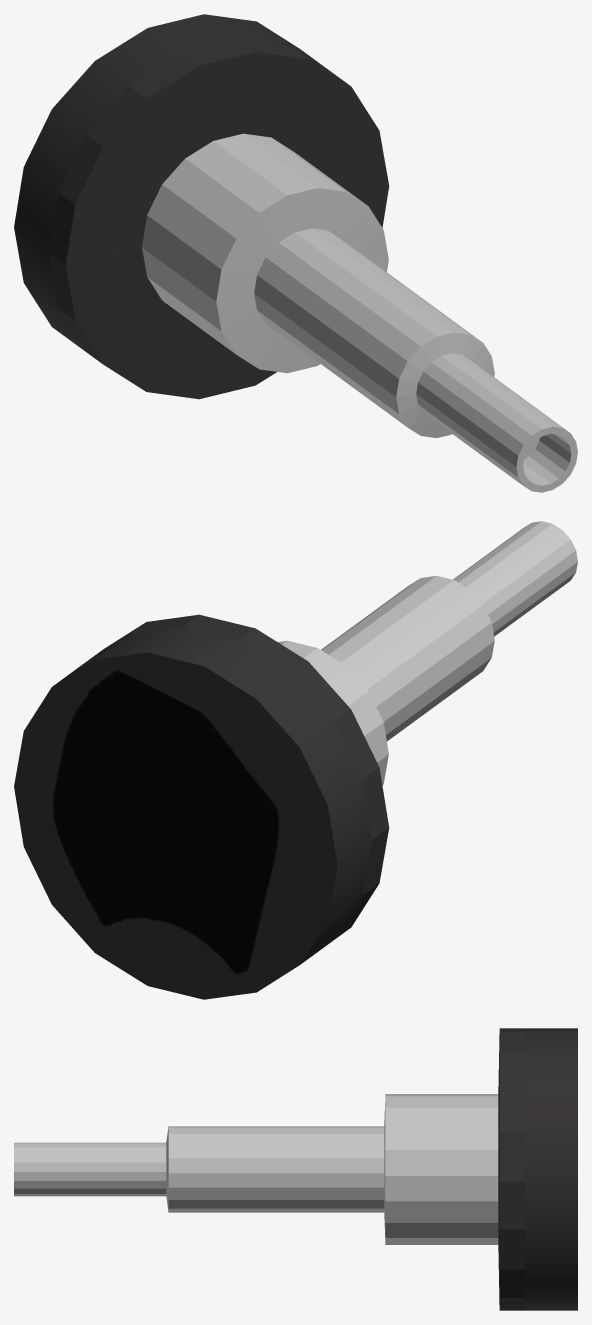
The model's file is RayEnter.fbx.
3 views of the same model, one above another, from view 1: azimuth 30°, elevation 25°; view 2: azimuth 150°, elevation 25°; view 3: azimuth 270°, elevation 25° (orthographic). The views are drawn at different scales.
Parts seen in each view (by area): view 1: Cylinder001; view 2: Cylinder001; view 3: Cylinder001.
Boxes of the visible parts, left/top/right/bottom form: Cylinder001: left=14, top=14, right=577, bottom=492; Cylinder001: left=14, top=521, right=577, bottom=999; Cylinder001: left=14, top=1028, right=577, bottom=1310.
Bounding box in the file's own units: 82.72 × 81.46 × 164.
Materials: 1 (1 with a texture image).
